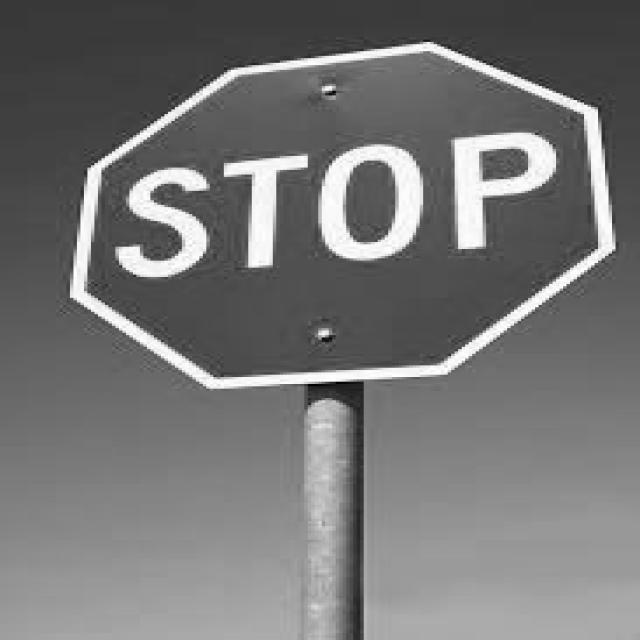stop sign: (78, 44, 602, 388)
